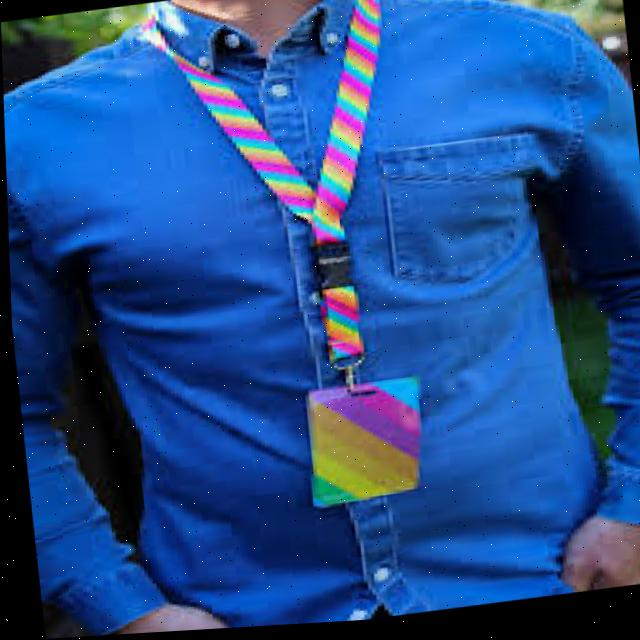id_card: (121, 0, 488, 538)
